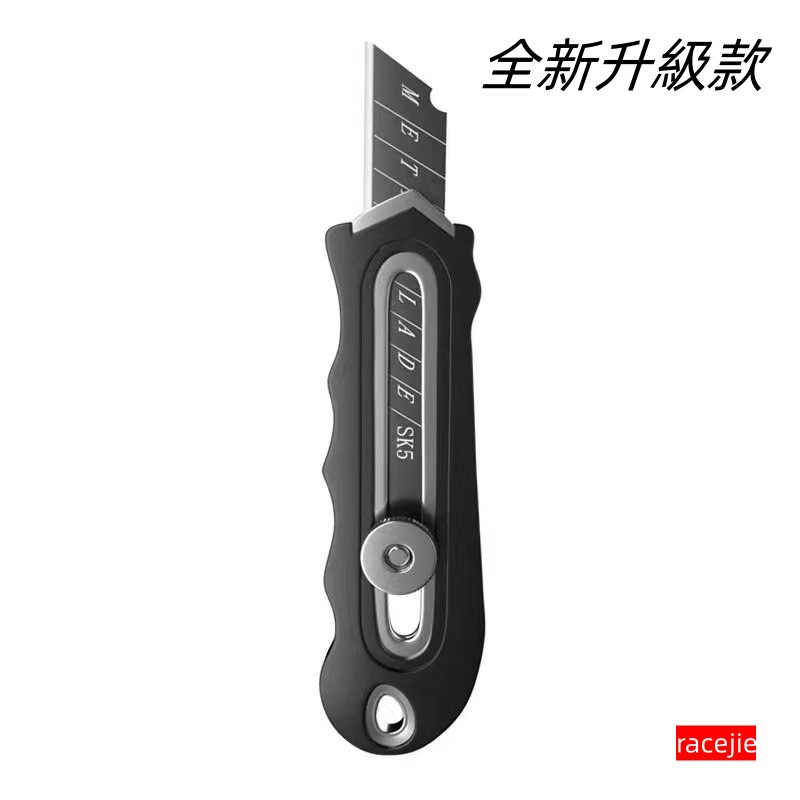cutter: (318, 43, 484, 756)
